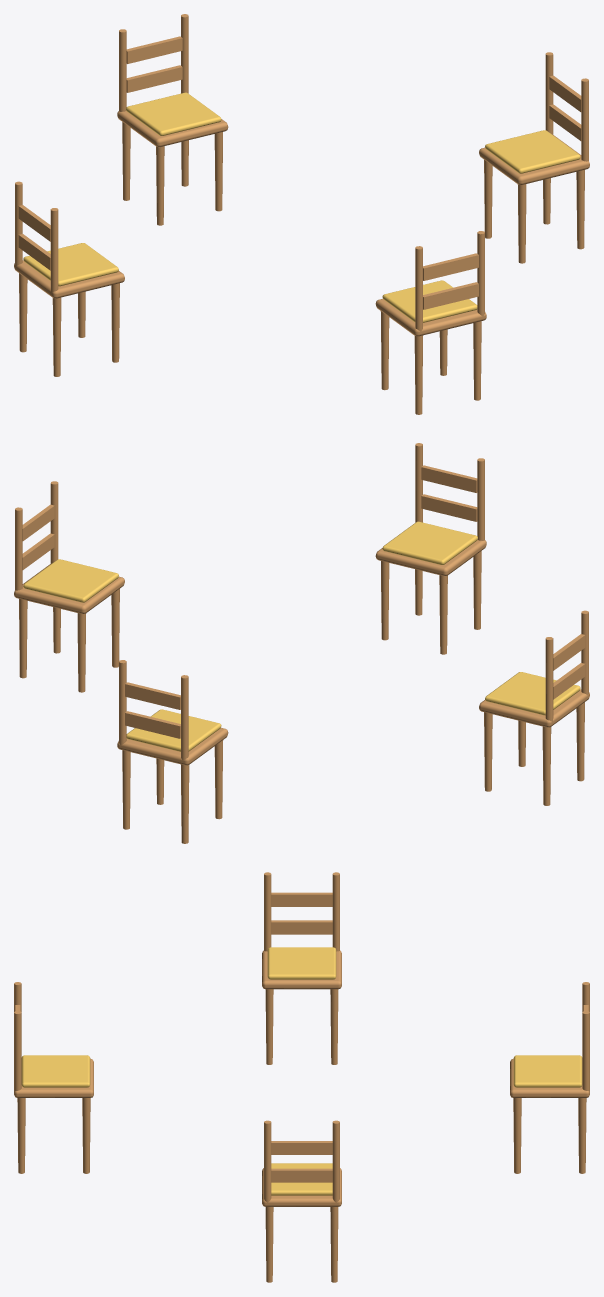
Rendered from kchair.glb.
3 renders of one model, top to bottom at view 1: azimuth 30°, elevation 25°; view 2: azimuth 150°, elevation 25°; view 3: azimuth 270°, elevation 25°, orthographic. The views are drawn at different scales.
Size of the model in its own units: 3.12 by 0.93 by 3.02.
